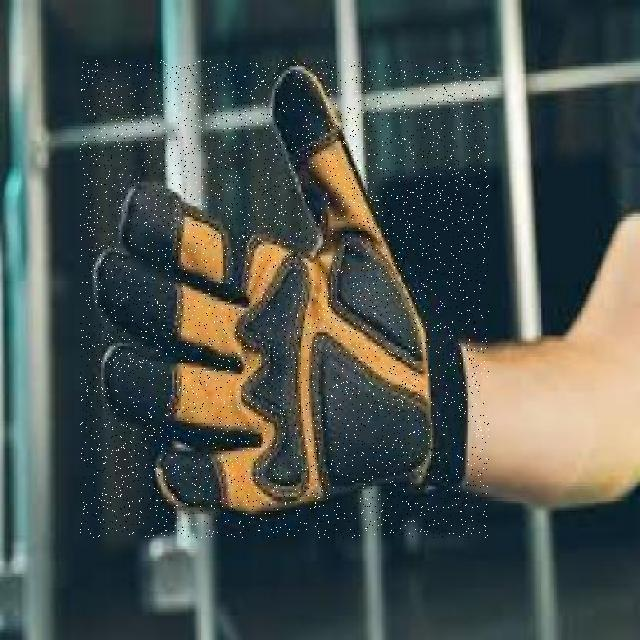gloves: (80, 65, 481, 521)
